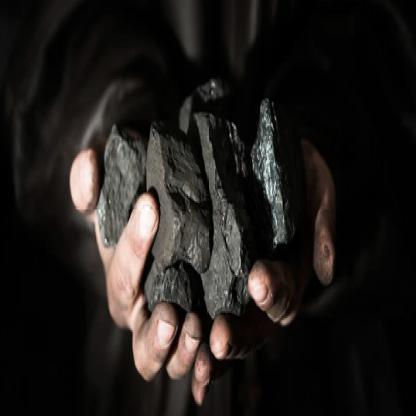Sedimentary_coal: (179, 81, 250, 313), (145, 100, 214, 276), (244, 79, 308, 248), (98, 108, 139, 235)
